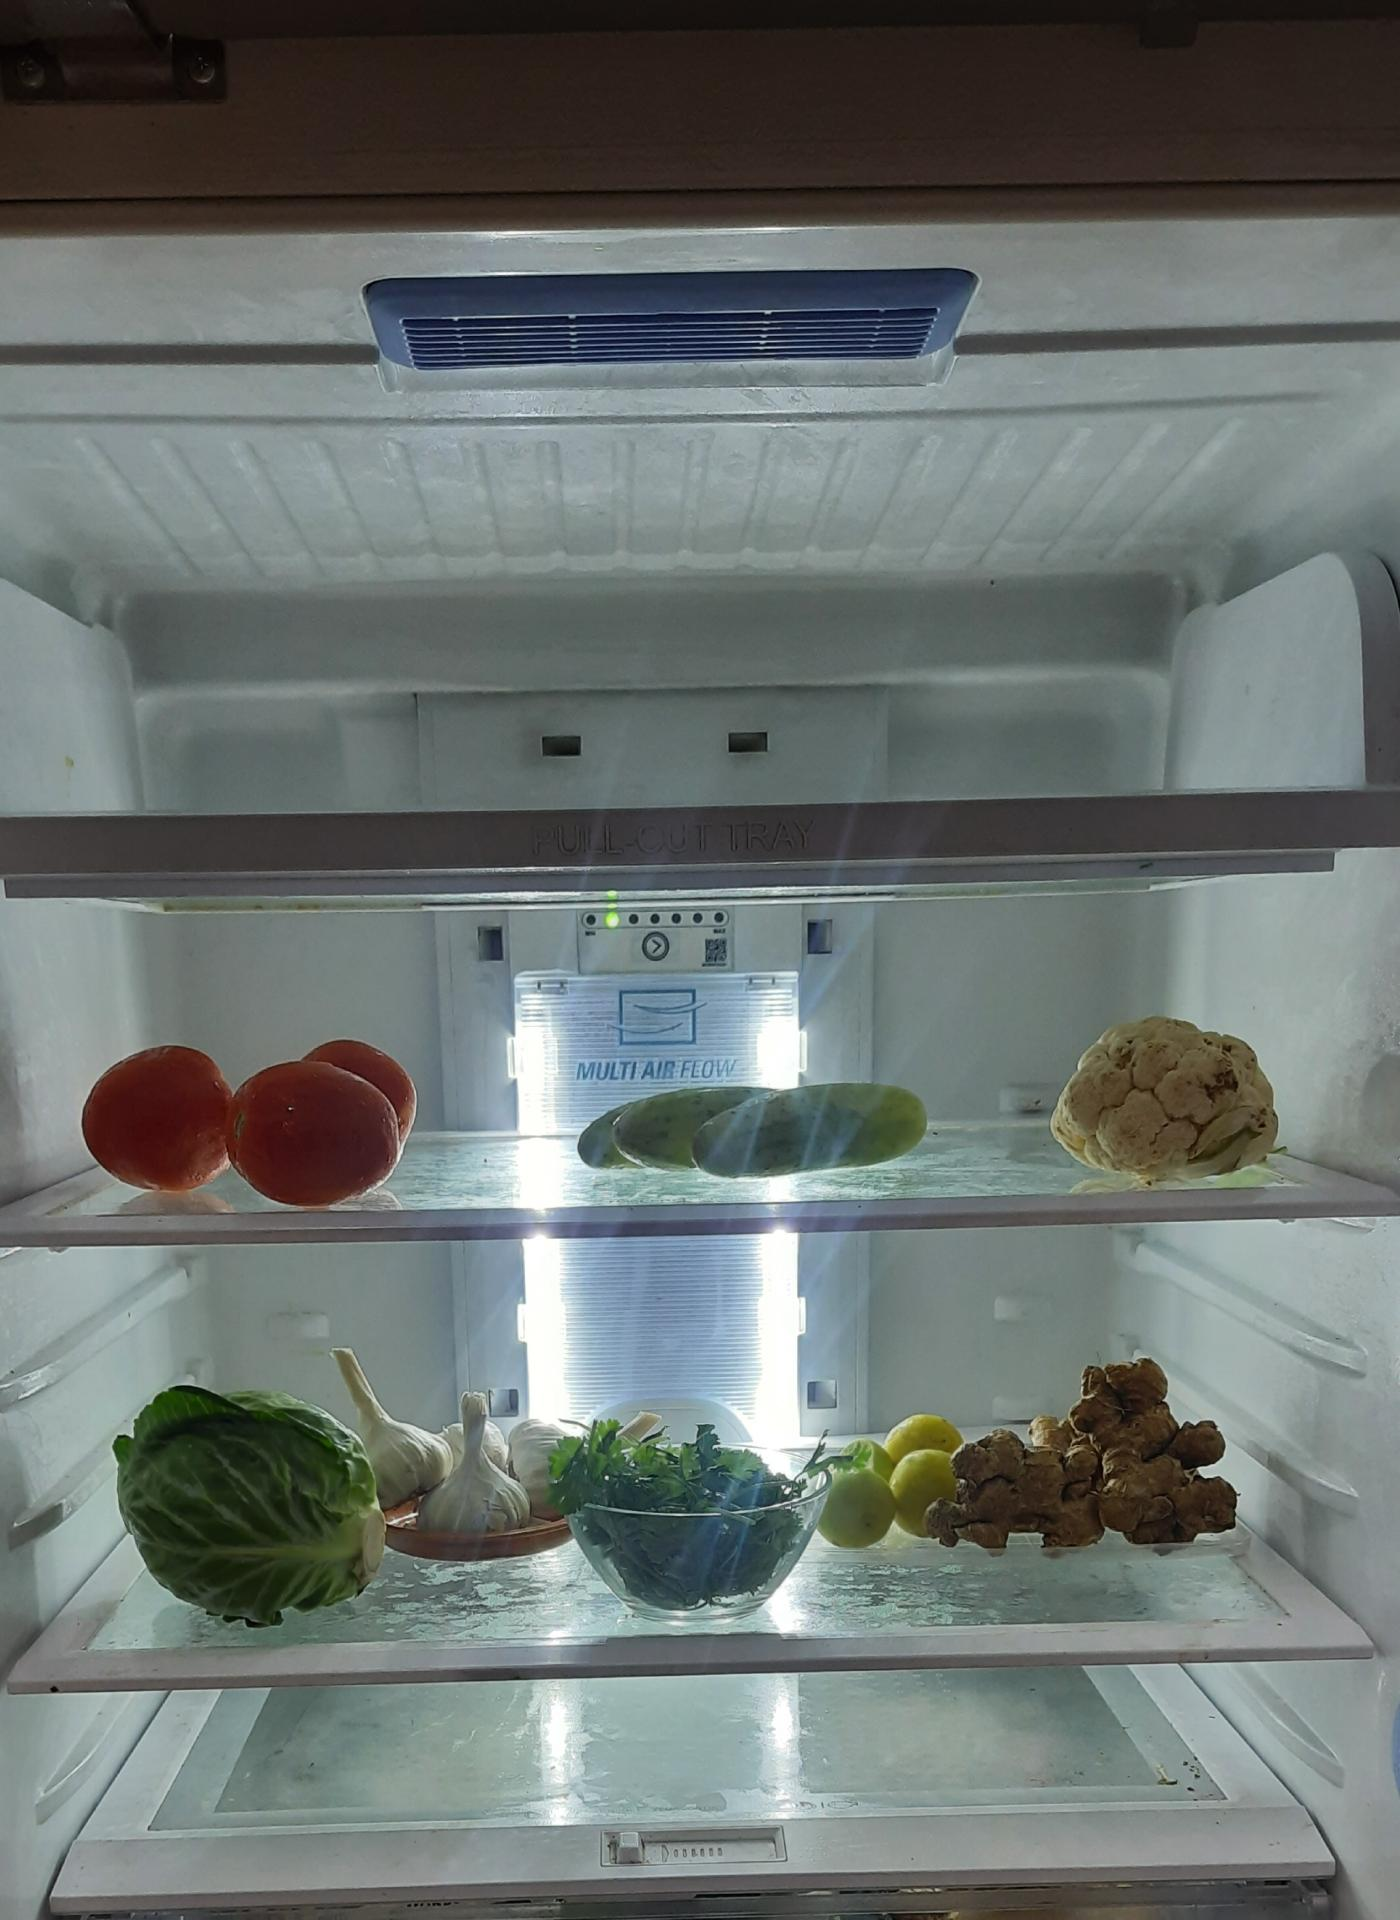cabbage: (110, 1383, 379, 1626)
cauliflower: (1047, 1006, 1290, 1178)
coriander: (552, 1416, 824, 1608)
cucumber: (574, 1067, 941, 1173)
garlic: (367, 1389, 568, 1544)
ginger: (929, 1354, 1251, 1565)
lemon: (826, 1410, 972, 1544)
tomato: (70, 1024, 414, 1190)
